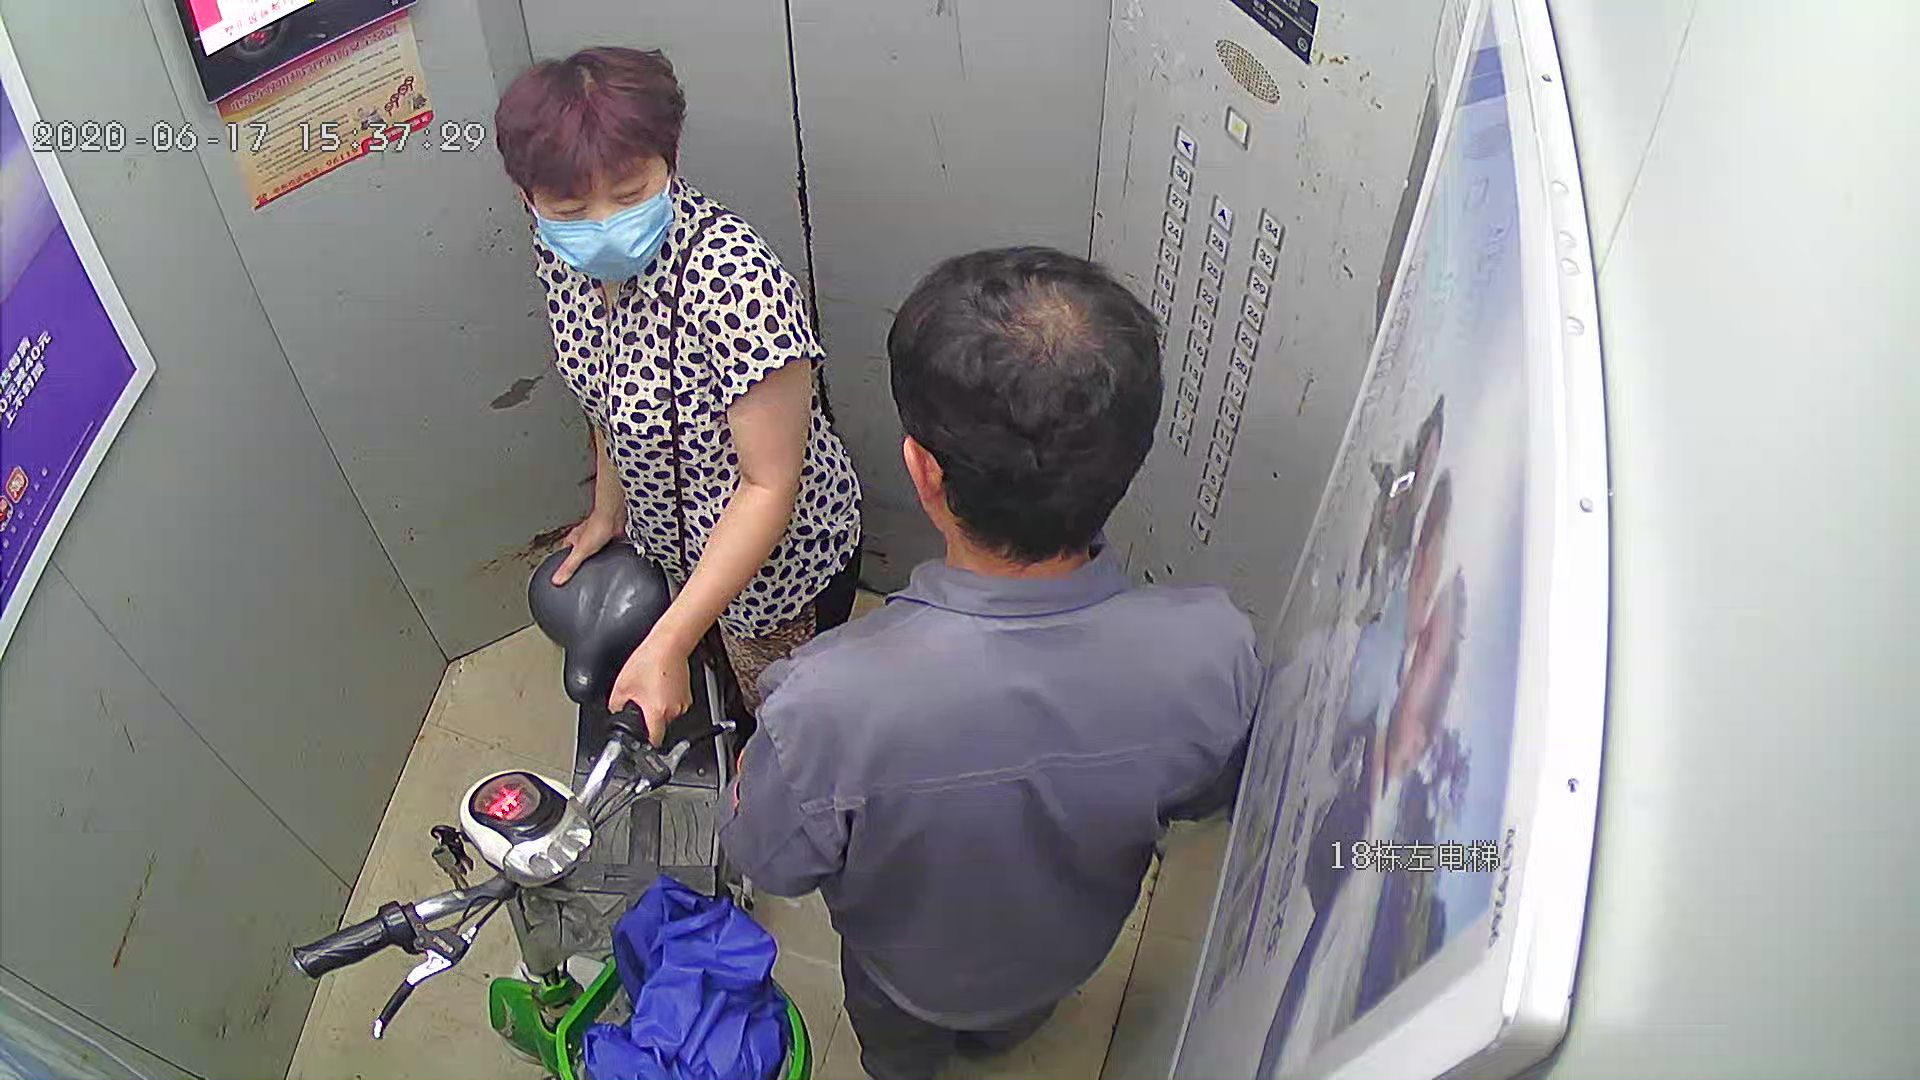Electric-bicycle: (303, 535, 807, 1080)
